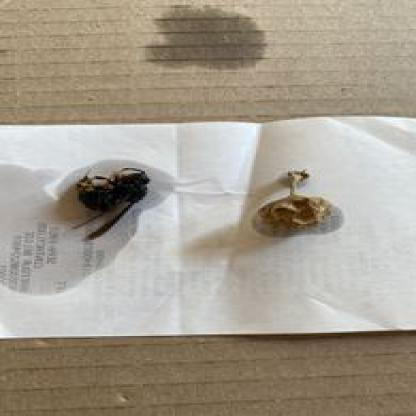Asian Hornet: (65, 156, 156, 237)
